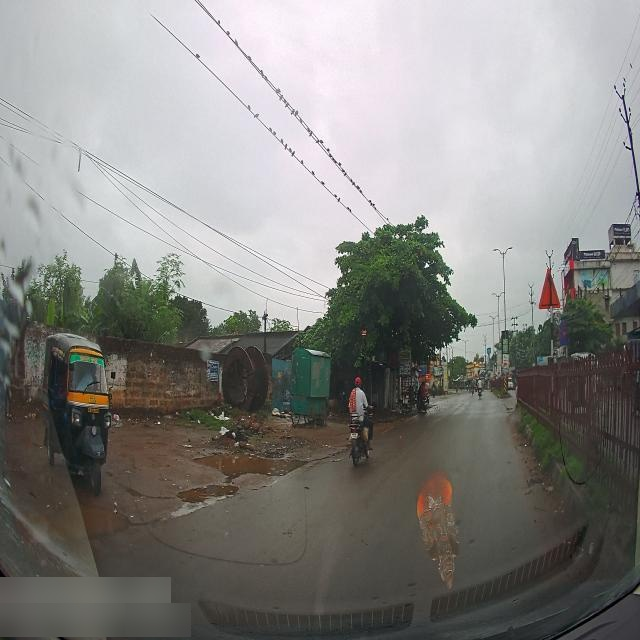pothole: (21, 500, 148, 552), (200, 448, 318, 484), (169, 480, 245, 516)
